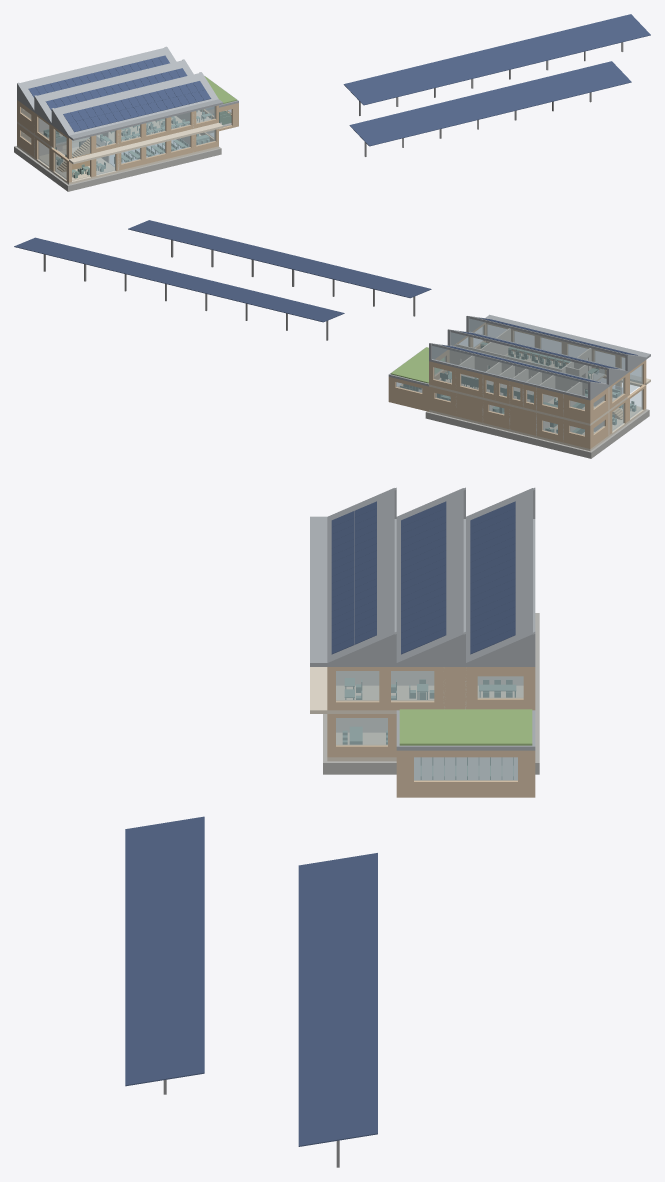
File: building.glb
3 views of the same model, one above another, from view 1: azimuth 30°, elevation 25°; view 2: azimuth 150°, elevation 25°; view 3: azimuth 270°, elevation 25° (orthographic). The views are drawn at different scales.
Visible parts, largest first — view 1: SITE__carportpv, RF__roof, RF__pv, FF__extwall, GF__extwall, FF__glass, GF__glass, GF__plinth, FF__slab, GF__slab, FF__furn__F04, GF__floor__G01 (+8 smaller); view 2: SITE__carportpv, RF__glass, FF__extwall, RF__roof, GF__extwall, FF__intwall, FF__glass, GF__plinth, RF__pv, GF__glass, GF__annexwall, RF__green (+4 smaller); view 3: SITE__carportpv, RF__roof, RF__pv, FF__extwall, RF__green, GF__annexwall, FF__glass, GF__annexglass, GF__floor__G11, GF__plinth, GF__extwall, FF__intwall (+3 smaller).
Part boxes in pixels (x1,y1,x2,y2): SITE__carportpv: (343, 14, 650, 146); RF__roof: (17, 46, 223, 140); RF__pv: (28, 55, 211, 132); FF__extwall: (17, 100, 218, 159); GF__extwall: (17, 123, 218, 182); FF__glass: (21, 106, 215, 157); GF__glass: (21, 130, 215, 179); GF__plinth: (14, 146, 221, 191); FF__slab: (17, 121, 223, 164); GF__slab: (17, 145, 218, 184); FF__furn__F04: (110, 116, 189, 140); GF__floor__G01: (39, 146, 114, 180); SITE__carportpv: (14, 220, 431, 322); RF__glass: (432, 319, 625, 396); FF__extwall: (429, 322, 646, 423); RF__roof: (429, 314, 650, 400); GF__extwall: (429, 375, 646, 448); FF__intwall: (449, 328, 609, 415); FF__glass: (433, 324, 642, 410); GF__plinth: (425, 409, 649, 458); RF__pv: (442, 318, 637, 382); GF__glass: (435, 378, 642, 435); GF__annexwall: (388, 377, 428, 411); RF__green: (390, 347, 444, 383); SITE__carportpv: (125, 816, 377, 1146); RF__roof: (310, 487, 535, 666); RF__pv: (331, 501, 515, 654); FF__extwall: (327, 667, 535, 710); RF__green: (399, 709, 532, 745); GF__annexwall: (396, 750, 535, 797); FF__glass: (336, 671, 523, 701); GF__annexglass: (414, 757, 517, 780); GF__floor__G11: (414, 757, 517, 779); GF__plinth: (323, 613, 539, 774); GF__extwall: (327, 714, 396, 757); FF__intwall: (336, 671, 523, 709).
Bounding box in the file's own units: 92.3 × 10.64 × 28.7.
